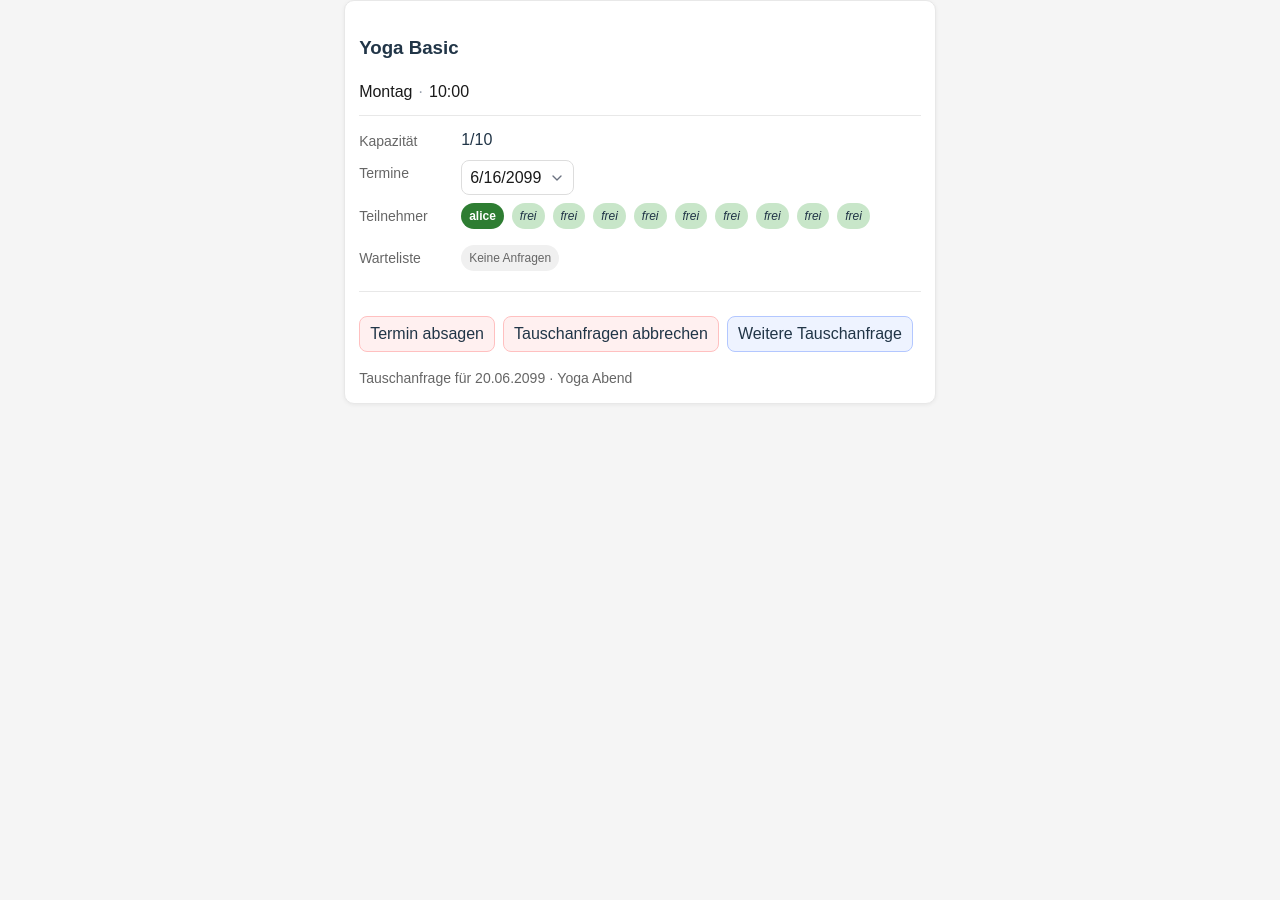
CourseCard › blendet bereits angefragte Zielkurse in der Auswahl aus
Click the button "Weitere Tauschanfrage": (820, 334) top-left (727, 316), bottom-right (913, 352)
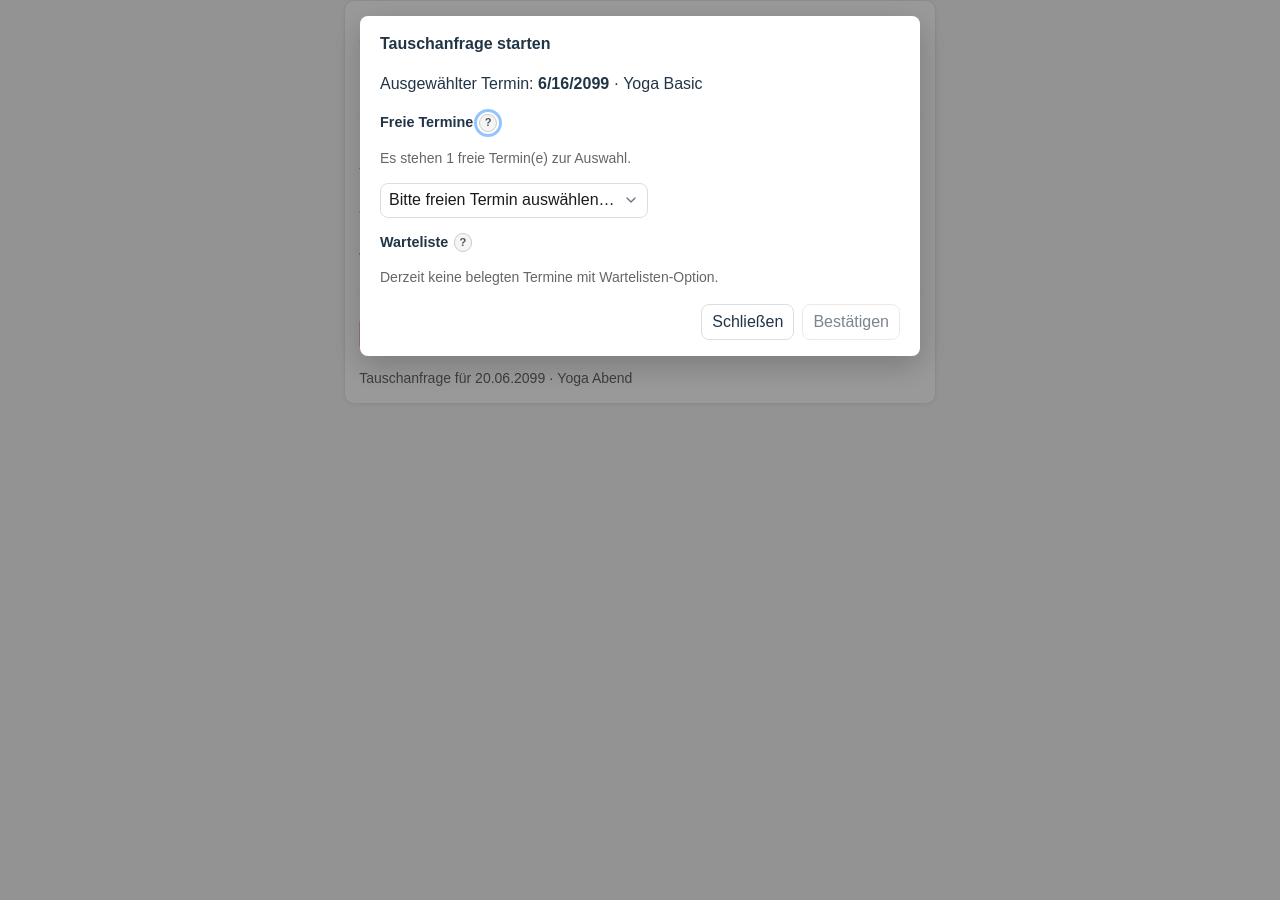
expect the dialog named "Tauschanfrage starten, Yoga Basic, 16.06.2099" is shown: met
expect the heading "Tauschanfrage starten" is shown: met, box top-left (380, 35), bottom-right (550, 52)
Click the dropdown labelled "Bitte freien Termin auswählen…": (514, 200) top-left (380, 183), bottom-right (648, 218)
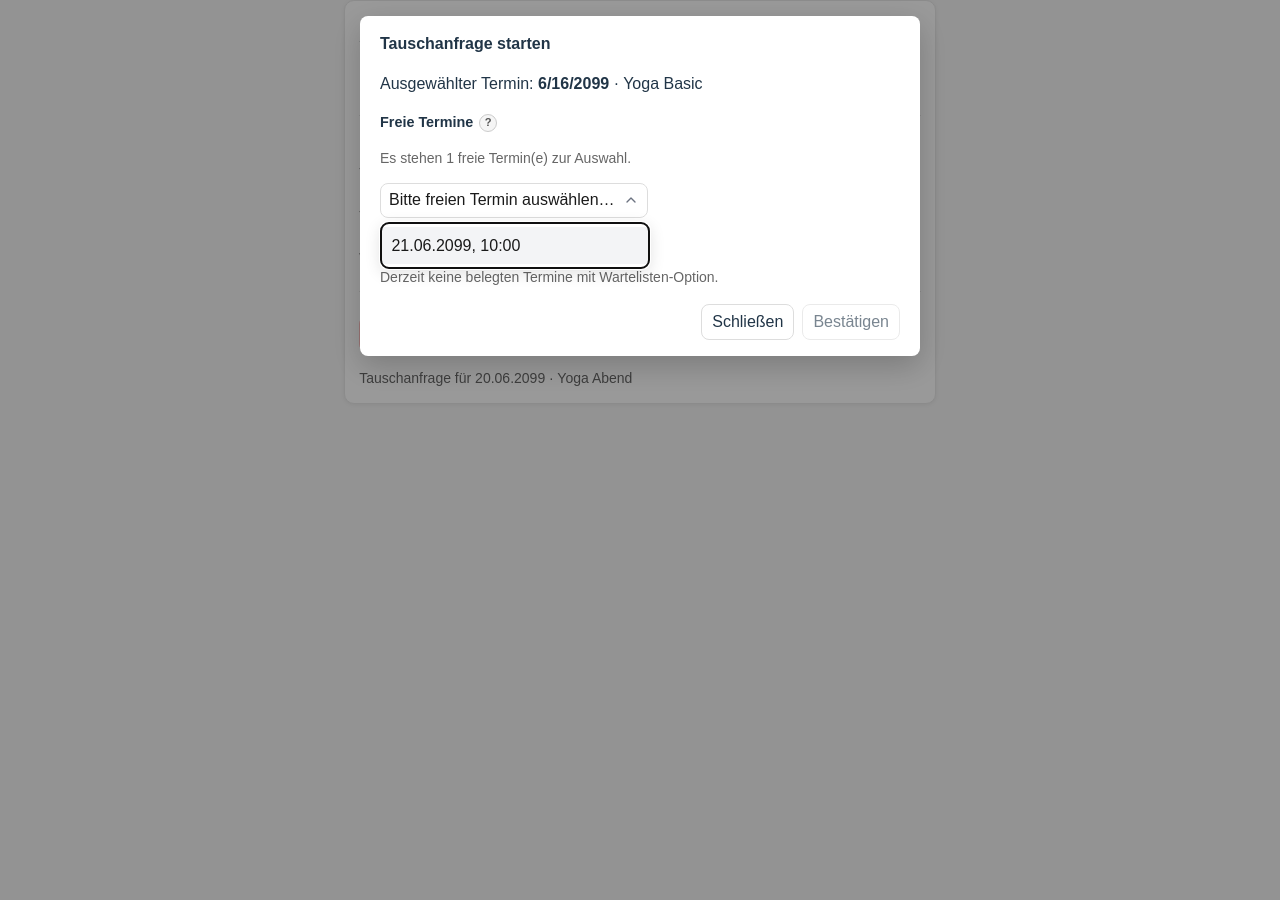
expect the number of options is 1: met, box top-left (381, 227), bottom-right (649, 264)
